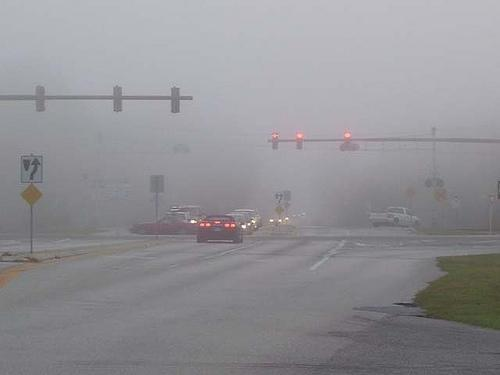car: (197, 214, 246, 244), (128, 214, 198, 234), (370, 207, 421, 227), (163, 206, 201, 222), (227, 213, 252, 235), (233, 212, 260, 230), (233, 210, 262, 223), (266, 213, 283, 224), (163, 211, 186, 215)
